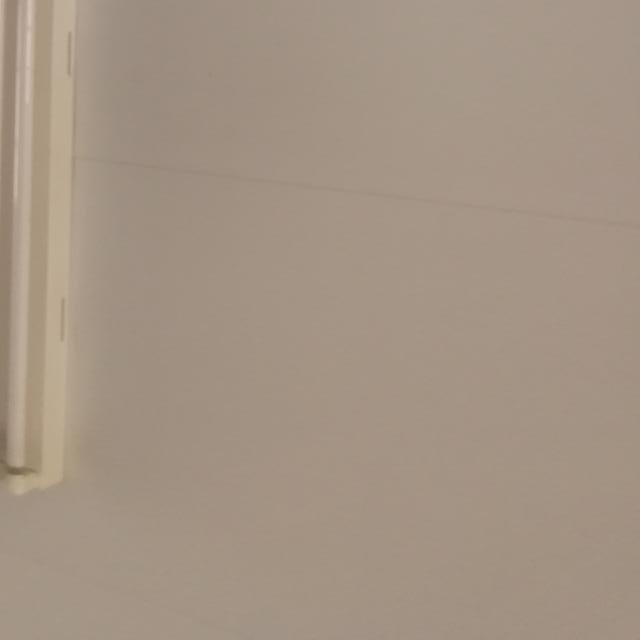fluorescent tube: (0, 0, 124, 523)
